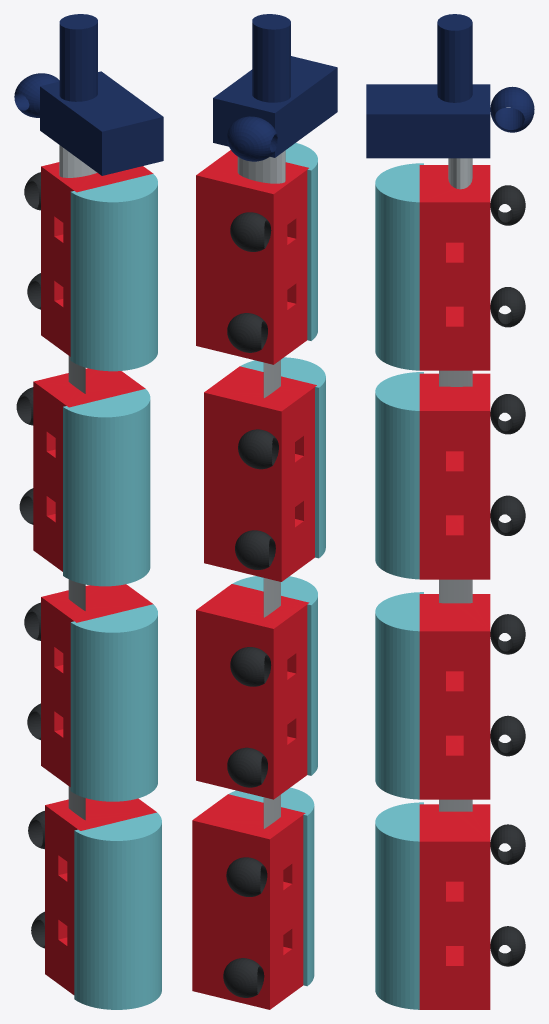
The model's file is tinker.obj.
3 views of the same model, side by side, from view 1: azimuth 30°, elevation 25°; view 2: azimuth 150°, elevation 25°; view 3: azimuth 270°, elevation 25° (orthographic).
Parts seen in each view (by area): view 1: group_0_7720667, group_0_15277357, group_0_1650274, group_0_2829873, group_0_10988977, group_0_12568524; view 2: group_0_15277357, group_0_1650274, group_0_7720667, group_0_2829873, group_0_10988977, group_0_12568524; view 3: group_0_15277357, group_0_7720667, group_0_1650274, group_0_2829873, group_0_10988977, group_0_12568524.
Boxes of the visible parts, x1,y1,x2,y2 form: group_0_7720667: [63, 174, 161, 1009]; group_0_15277357: [33, 162, 156, 994]; group_0_1650274: [14, 14, 163, 175]; group_0_2829873: [16, 172, 44, 948]; group_0_10988977: [68, 356, 85, 820]; group_0_12568524: [59, 145, 97, 177]; group_0_15277357: [192, 150, 316, 1009]; group_0_1650274: [213, 14, 337, 161]; group_0_7720667: [228, 143, 325, 986]; group_0_2829873: [223, 212, 278, 997]; group_0_10988977: [263, 360, 280, 828]; group_0_12568524: [237, 150, 285, 183]; group_0_15277357: [419, 165, 490, 1009]; group_0_7720667: [375, 163, 423, 1009]; group_0_1650274: [366, 14, 534, 158]; group_0_2829873: [490, 185, 525, 966]; group_0_10988977: [439, 370, 472, 811]; group_0_12568524: [448, 158, 472, 189].
Bounding box in the file's own units: 24 × 239 × 38.
